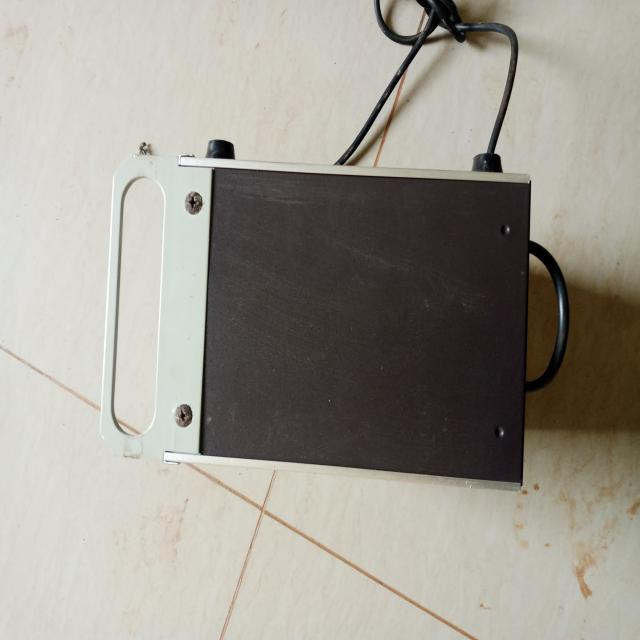Low Distortion Signal Generator: (94, 136, 546, 491)
